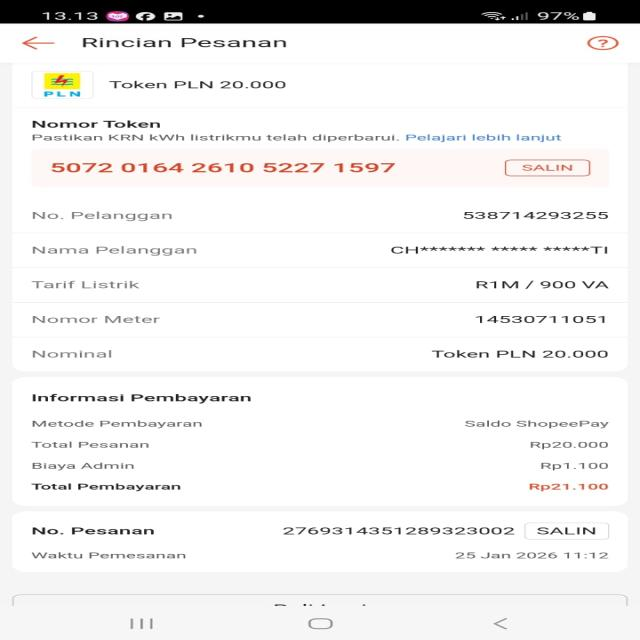date: (444, 548, 621, 566)
store: (95, 73, 308, 97)
total: (24, 480, 618, 494)
